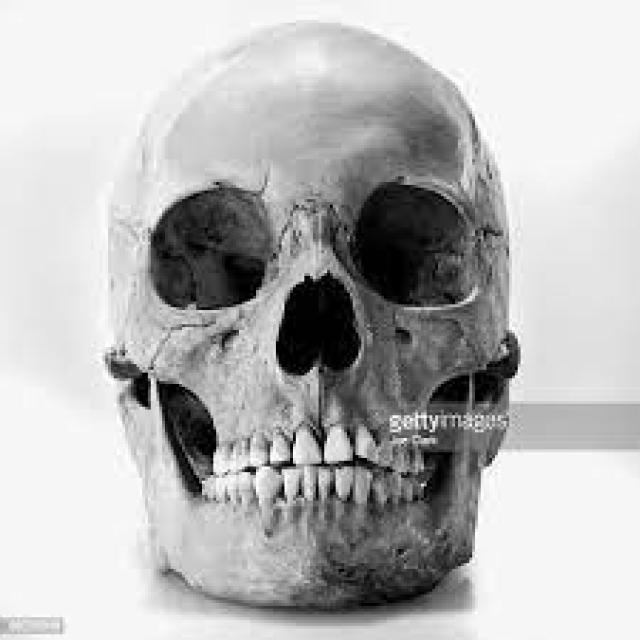skull: (90, 17, 574, 619)
